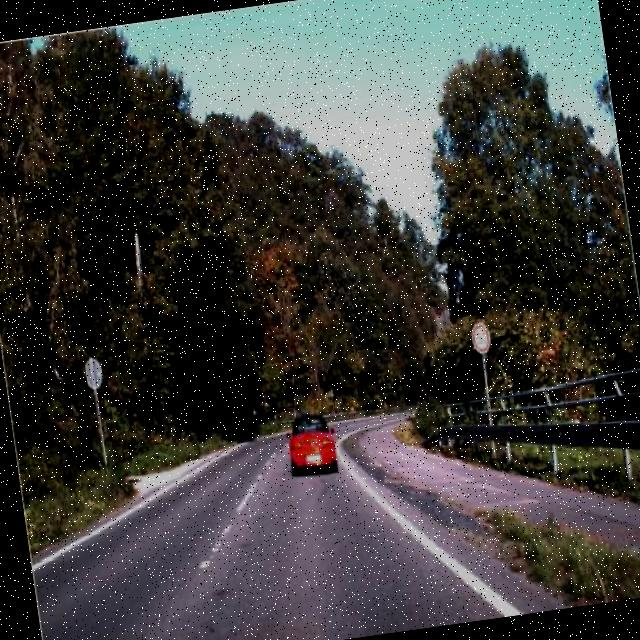Ograniczenie predkosci do 50: (470, 318, 495, 356)
